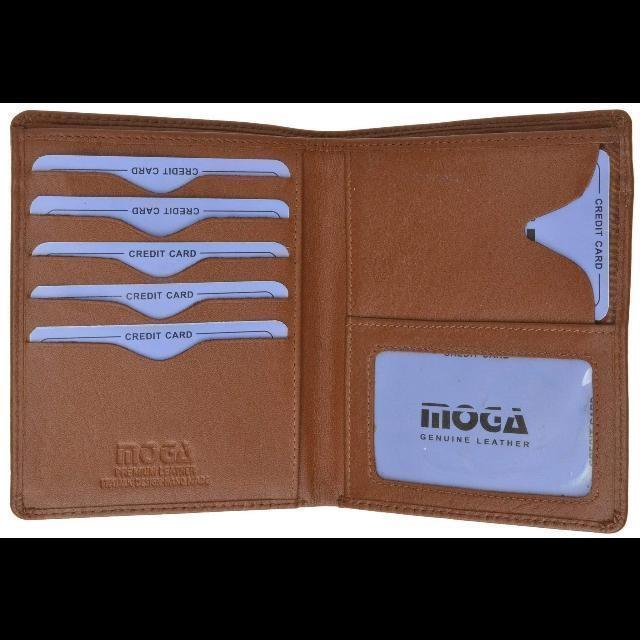Wallet: (9, 105, 634, 537)
